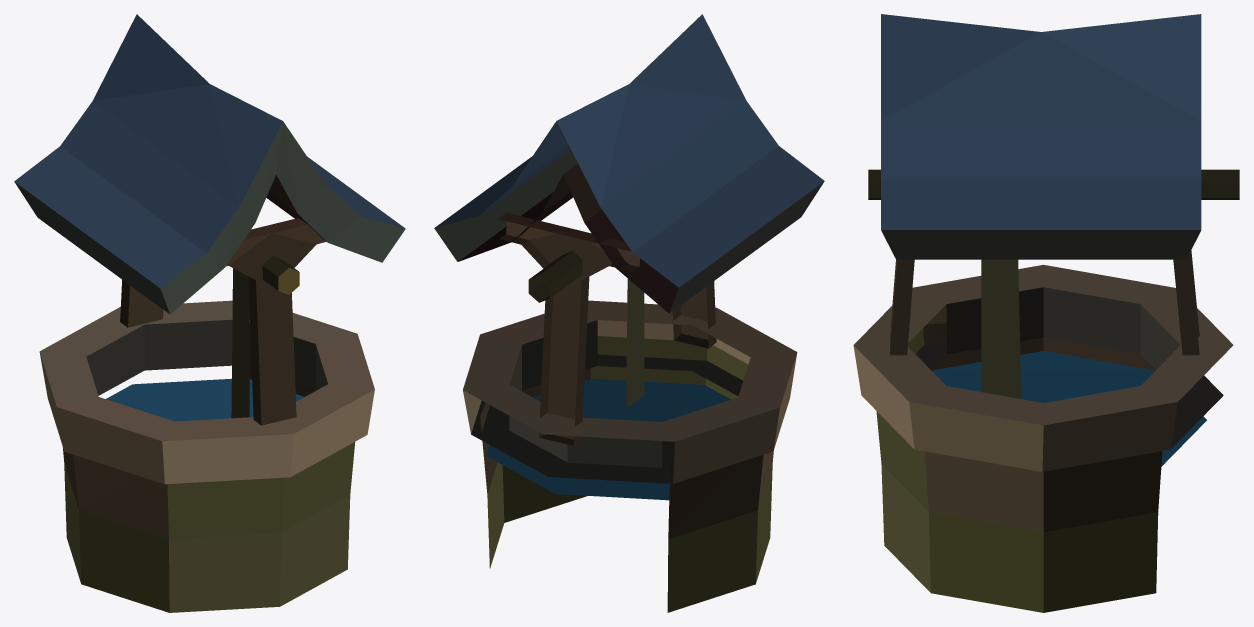
The model's file is village-decor08.fbx.
3 renders of one model, left to right at view 1: azimuth 30°, elevation 25°; view 2: azimuth 150°, elevation 25°; view 3: azimuth 270°, elevation 25°, orthographic. The views are drawn at different scales.
Visible parts, largest first — view 1: village-decor08; view 2: village-decor08; view 3: village-decor08.
Part boxes in pixels (box(x1,y1,x2,y2)): village-decor08: box(14, 14, 405, 612); village-decor08: box(434, 14, 824, 612); village-decor08: box(853, 14, 1239, 612).
Size of the model in its own units: 0.6036 by 0.9328 by 0.6128.
Materials: 1 (1 with a texture image).
